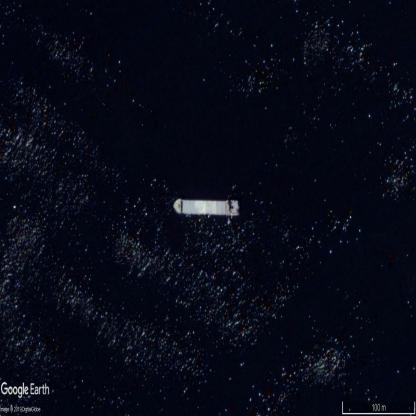ship: (172, 198, 240, 217)
